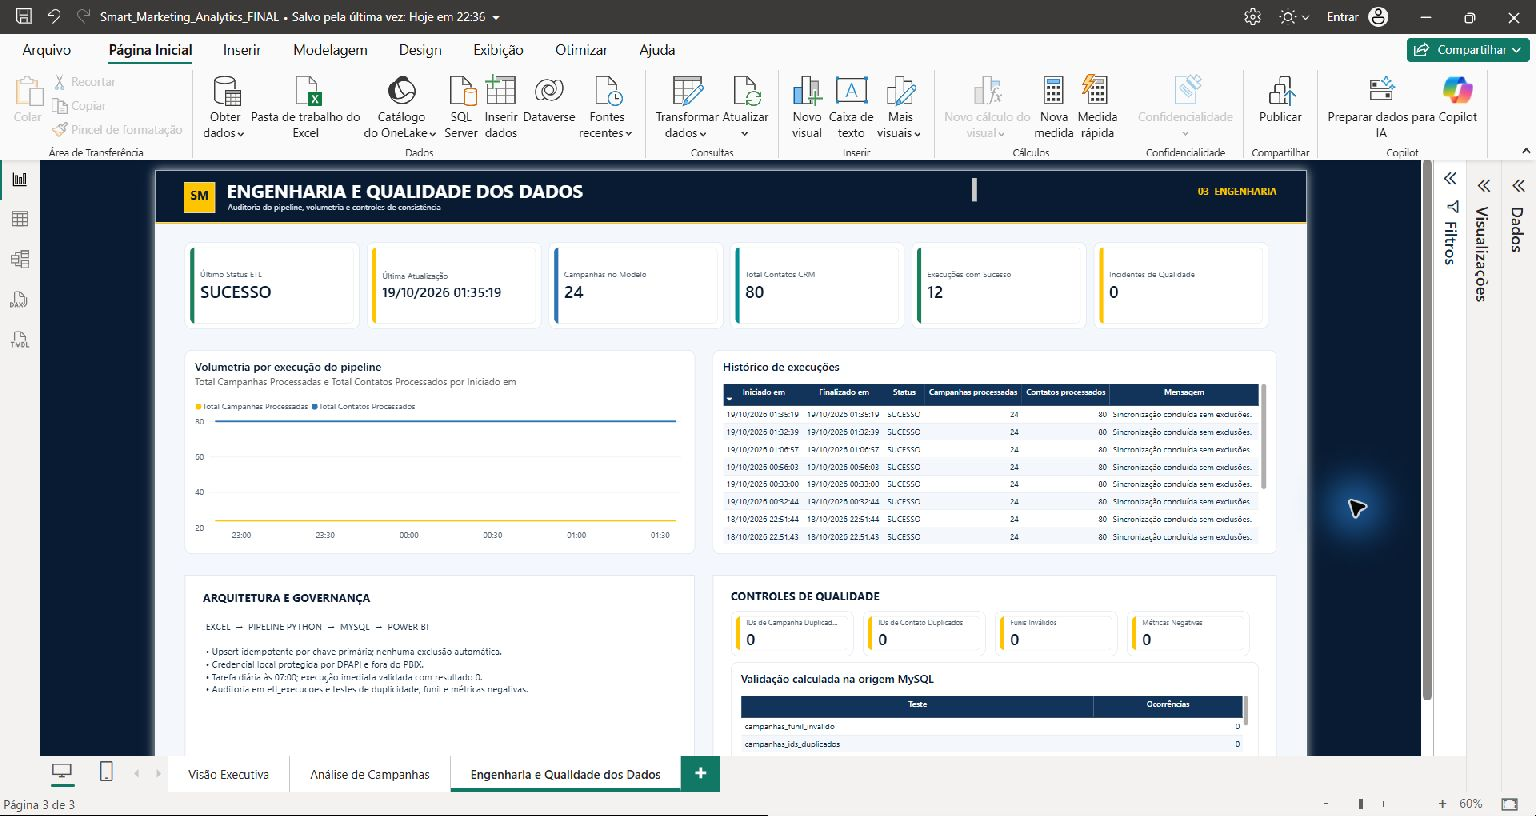

This screenshot's page, from the dashboard's own definition file:
{"tool":"powerbi","page":{"name":"Engenharia e Qualidade dos Dados","canvas":[1920,1080],"ordinal":2},"visuals":[{"type":"shape","box":[0,0,1920,90],"z":0},{"type":"shape","box":[0,86,1920,4],"z":1},{"type":"shape","box":[48,20,52,52],"z":2},{"type":"textbox","box":[120,13,1250,40],"z":3},{"type":"textbox","box":[1730,24,140,35],"z":3},{"type":"textbox","box":[51,29,46,30],"z":3},{"type":"textbox","box":[122,52,1350,25],"z":3},{"type":"cardVisual","fields":{"Data":["ETL Execuções.Último Status ETL"]},"box":[50,120,291,145],"z":30},{"type":"cardVisual","fields":{"Data":["ETL Execuções.Última Atualização"]},"box":[353,120,291,145],"z":31},{"type":"cardVisual","fields":{"Data":["Campanhas.Campanhas no Modelo"]},"box":[656,120,291,145],"z":32},{"type":"cardVisual","fields":{"Data":["Contatos CRM.Total Contatos CRM"]},"box":[959,120,291,145],"z":33},{"type":"cardVisual","fields":{"Data":["ETL Execuções.Execuções com Sucesso"]},"box":[1262,120,291,145],"z":34},{"type":"cardVisual","fields":{"Data":["Campanhas.Incidentes de Qualidade"]},"box":[1565,120,291,145],"z":35},{"type":"lineChart","title":"Volumetria por execução do pipeline","fields":{"Category":["ETL Execuções.Iniciado em"],"Y":["ETL Execuções.Total Campanhas Processadas","ETL Execuções.Total Contatos Processados"]},"box":[50,300,850,340],"z":50},{"type":"tableEx","title":"Histórico de execuções","fields":{"Values":["ETL Execuções.Iniciado em","ETL Execuções.Finalizado em","ETL Execuções.Status","ETL Execuções.Campanhas processadas","ETL Execuções.Contatos processados","ETL Execuções.Mensagem"]},"box":[930,300,940,340],"z":51},{"type":"shape","box":[50,675,850,330],"z":60},{"type":"shape","box":[930,675,940,330],"z":60},{"type":"textbox","box":[960,696,850,35],"z":62},{"type":"textbox","box":[80,700,780,35],"z":62},{"type":"textbox","box":[85,750,770,225],"z":62},{"type":"cardVisual","fields":{"Data":["Campanhas.IDs de Campanha Duplicados"]},"box":[960,735,205,75],"z":64},{"type":"cardVisual","fields":{"Data":["Campanhas.IDs de Contato Duplicados"]},"box":[1180,735,205,75],"z":65},{"type":"cardVisual","fields":{"Data":["Campanhas.Funis Inválidos"]},"box":[1400,735,205,75],"z":66},{"type":"cardVisual","fields":{"Data":["Campanhas.Métricas Negativas"]},"box":[1620,735,205,75],"z":67},{"type":"tableEx","title":"Validação calculada na origem MySQL","fields":{"Values":["Qualidade Dados.Teste","Qualidade Dados.Ocorrências"]},"box":[960,820,880,170],"z":70},{"type":"textbox","box":[50,1030,1820,28],"z":900}]}

Visuals, with their boxes on the page's 1920x1080 design canvas (x1, y1, x2, y2). These are canvas units, not pixel positions in the 1536x816 screenshot, which may show the page scaled, cropped or inside an application window:
shape: bbox=[0, 0, 1920, 90]
shape: bbox=[0, 86, 1920, 90]
shape: bbox=[48, 20, 100, 72]
textbox: bbox=[120, 13, 1370, 53]
textbox: bbox=[1730, 24, 1870, 59]
textbox: bbox=[51, 29, 97, 59]
textbox: bbox=[122, 52, 1472, 77]
cardVisual - ETL Execuções.Último Status ETL: bbox=[50, 120, 341, 265]
cardVisual - ETL Execuções.Última Atualização: bbox=[353, 120, 644, 265]
cardVisual - Campanhas.Campanhas no Modelo: bbox=[656, 120, 947, 265]
cardVisual - Contatos CRM.Total Contatos CRM: bbox=[959, 120, 1250, 265]
cardVisual - ETL Execuções.Execuções com Sucesso: bbox=[1262, 120, 1553, 265]
cardVisual - Campanhas.Incidentes de Qualidade: bbox=[1565, 120, 1856, 265]
"Volumetria por execução do pipeline" lineChart: bbox=[50, 300, 900, 640]
"Histórico de execuções" tableEx: bbox=[930, 300, 1870, 640]
shape: bbox=[50, 675, 900, 1005]
shape: bbox=[930, 675, 1870, 1005]
textbox: bbox=[960, 696, 1810, 731]
textbox: bbox=[80, 700, 860, 735]
textbox: bbox=[85, 750, 855, 975]
cardVisual - Campanhas.IDs de Campanha Duplicados: bbox=[960, 735, 1165, 810]
cardVisual - Campanhas.IDs de Contato Duplicados: bbox=[1180, 735, 1385, 810]
cardVisual - Campanhas.Funis Inválidos: bbox=[1400, 735, 1605, 810]
cardVisual - Campanhas.Métricas Negativas: bbox=[1620, 735, 1825, 810]
"Validação calculada na origem MySQL" tableEx: bbox=[960, 820, 1840, 990]
textbox: bbox=[50, 1030, 1870, 1058]
